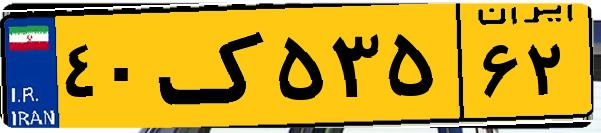0: (110, 28, 158, 98)
2: (525, 38, 570, 115)
3: (330, 28, 385, 110)
4: (57, 26, 110, 100)
5: (270, 28, 330, 110), (385, 28, 445, 110)
6: (475, 38, 525, 113)
ک: (158, 12, 270, 120)
